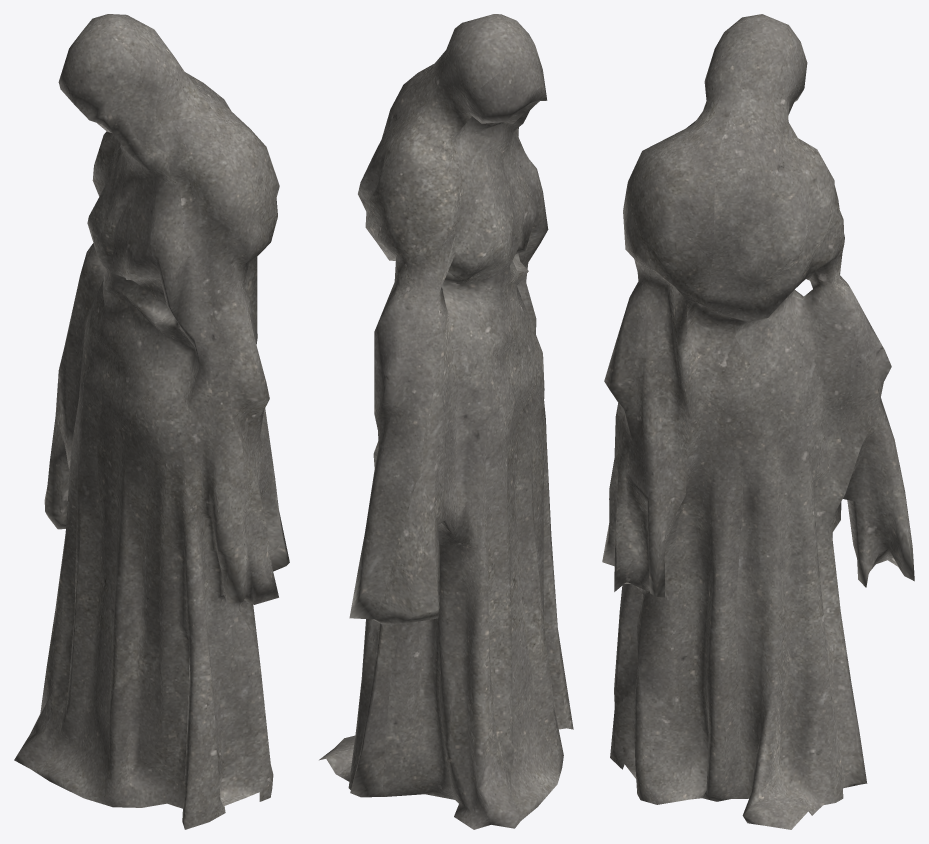
File: SM_Statue_3.fbx
3 renders of one model, left to right at view 1: azimuth 30°, elevation 25°; view 2: azimuth 150°, elevation 25°; view 3: azimuth 270°, elevation 25°, orthographic. The views are drawn at different scales.
Parts seen in each view (by area): view 1: SM_Statue_3_LOD0; view 2: SM_Statue_3_LOD0; view 3: SM_Statue_3_LOD0.
Boxes of the visible parts, x1,y1,x2,y2 form: SM_Statue_3_LOD0: (14, 14, 289, 829); SM_Statue_3_LOD0: (319, 14, 573, 829); SM_Statue_3_LOD0: (602, 14, 914, 829).
Bounding box in the file's own units: 82.13 × 105 × 275.
